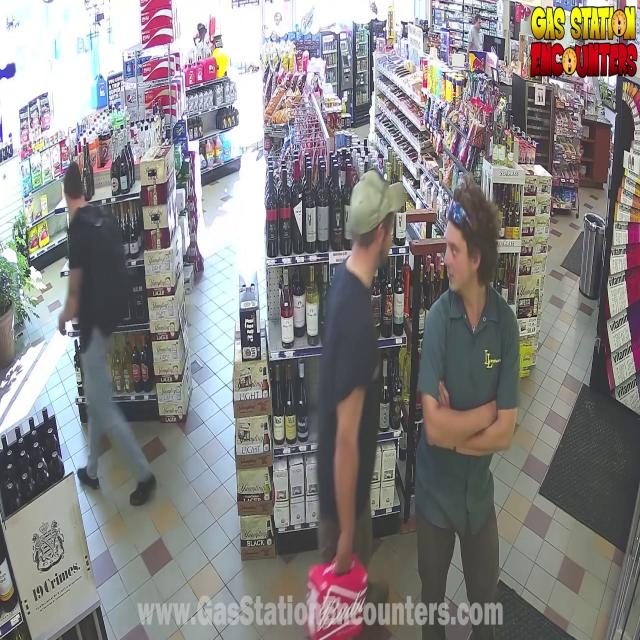Product: (313, 564, 376, 638)
normal: (402, 178, 548, 640), (32, 128, 139, 515)
shoplifting: (258, 170, 395, 640)
